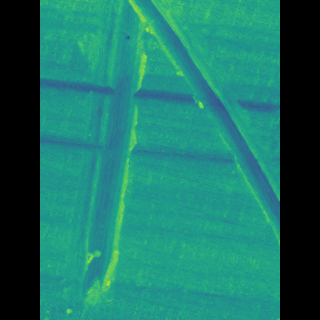Loch: (134, 0, 250, 250), (84, 0, 150, 312)
